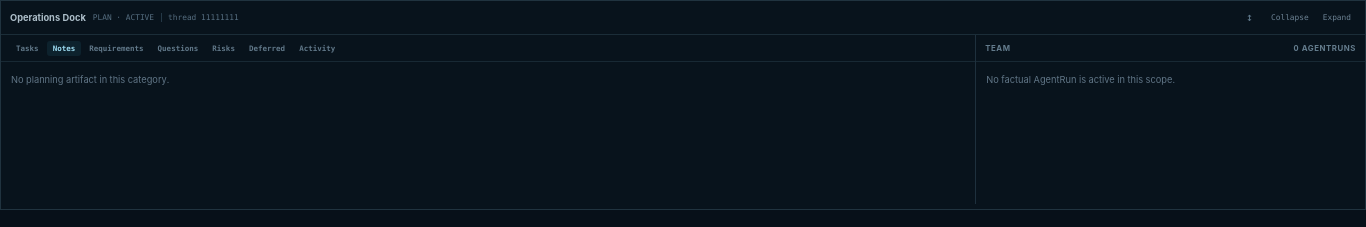
BottomOperationsDock planning controls › shows PlanningEvent history separately in planning Activity
Click the tab "Activity" at {"x": 317, "y": 48}, box [293,40,341,56]
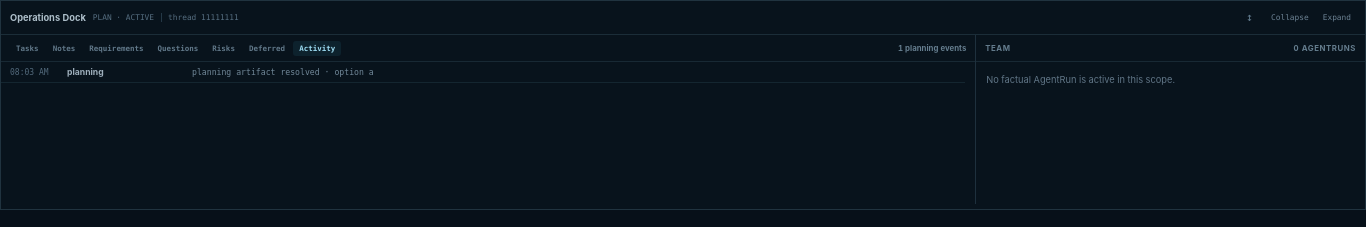
Now the text "1 planning events" is shown, box [898,43,966,53]
Now the text "planning artifact resolved · option a" is shown, box [192,67,374,77]
